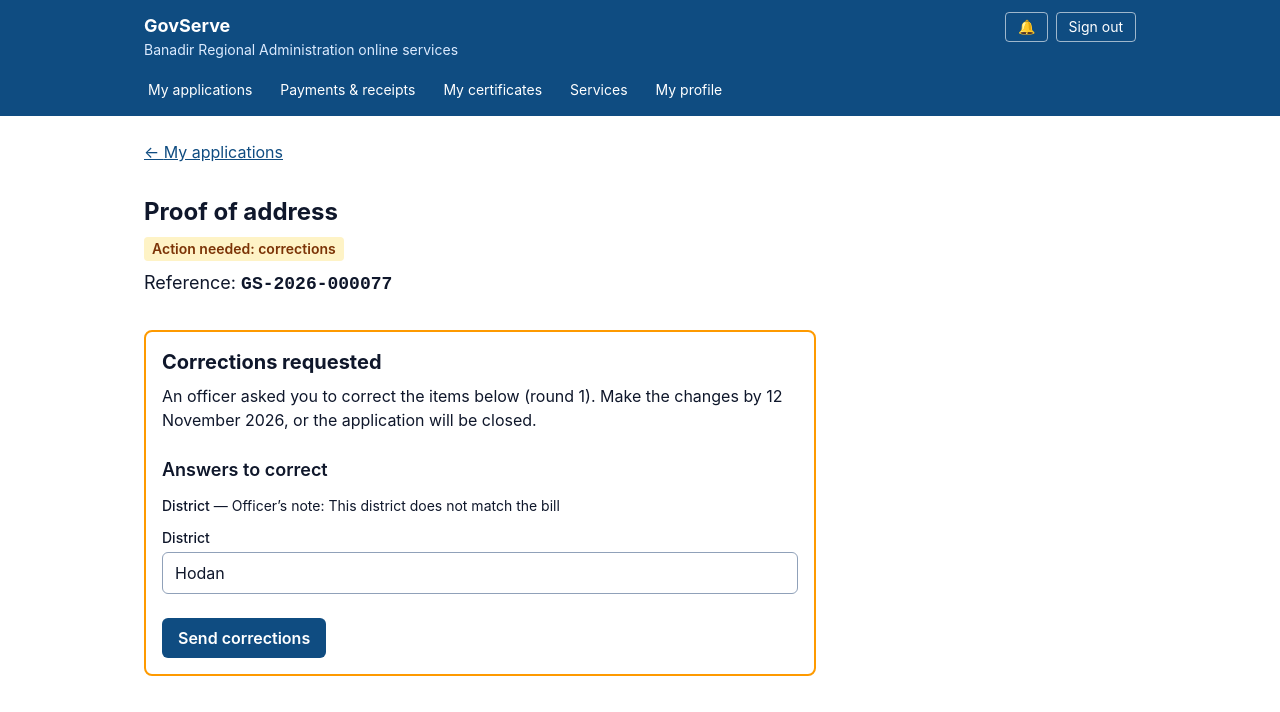
Test case: citizen corrections › should unlock only the flagged answer and resubmit
Check: the list item "This district does not match the bill" is shown, box [328,497,560,514]
Replace the text in the field labelled "District" with "Wadajir" at (480, 573), box [162,552,798,594]
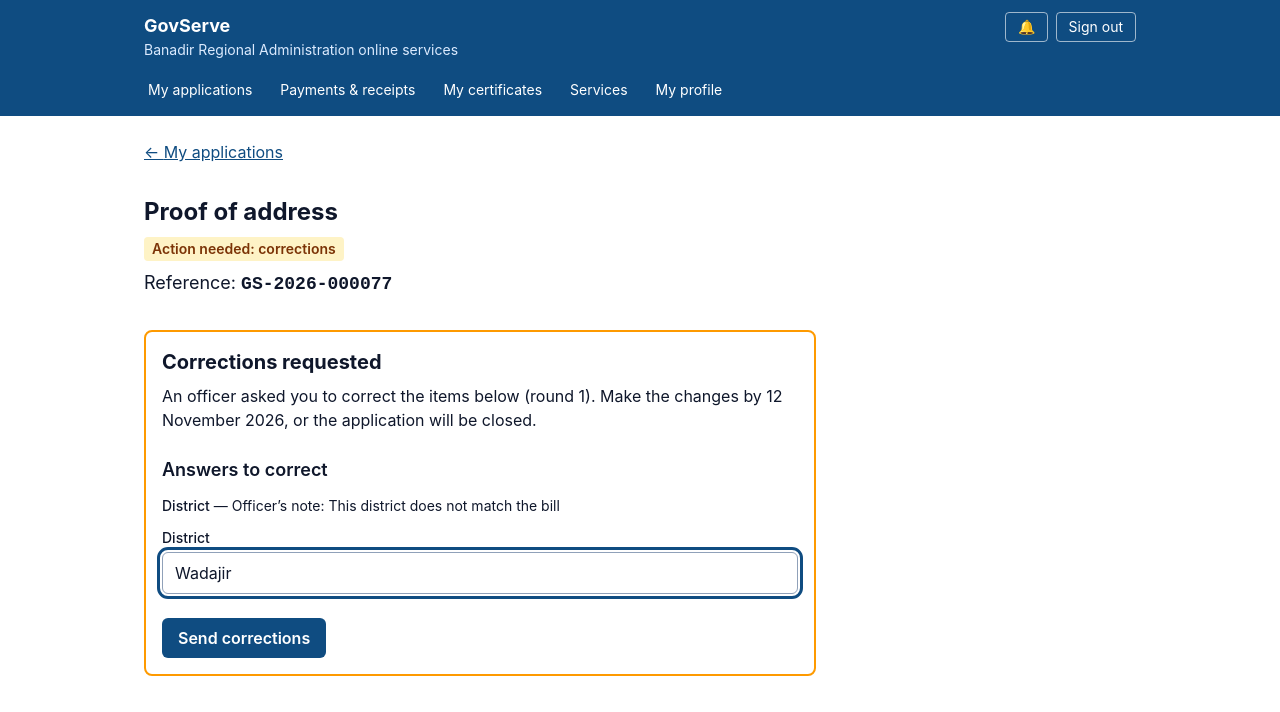
Click the button "Send corrections" at (244, 638), box [162,618,326,658]
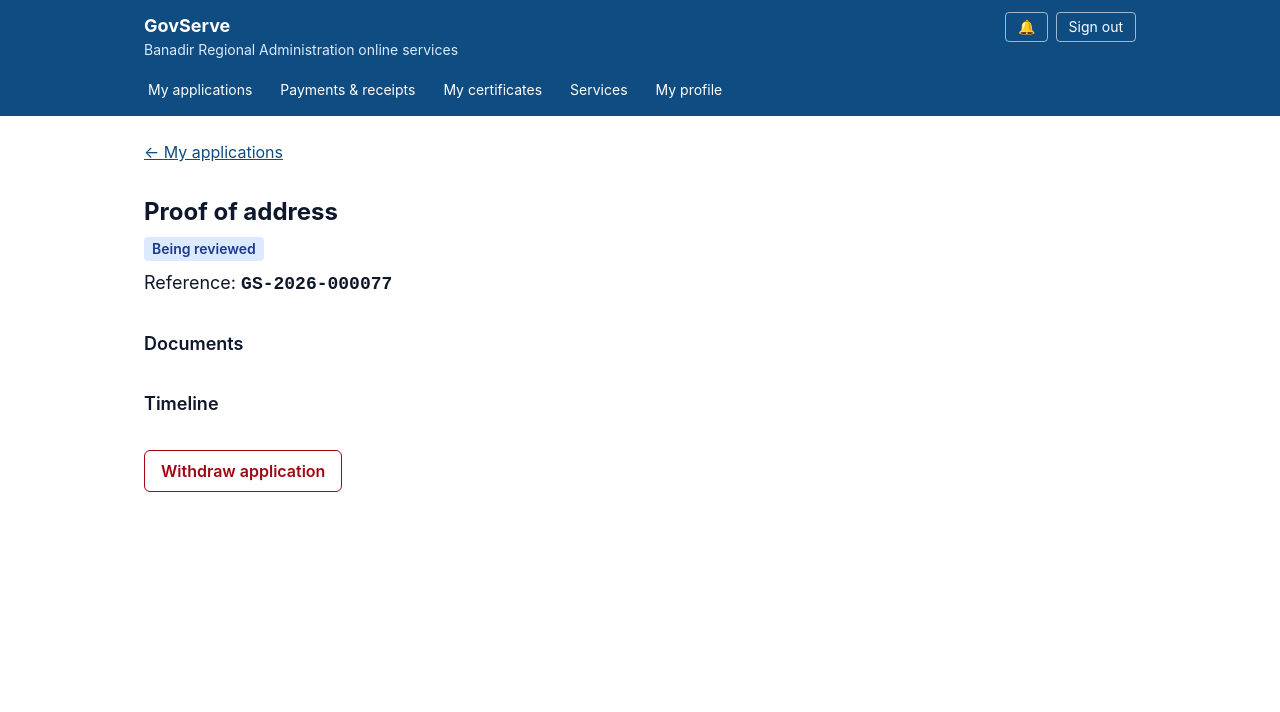
Check: the text "Being reviewed" is shown, box [144,237,264,261]
